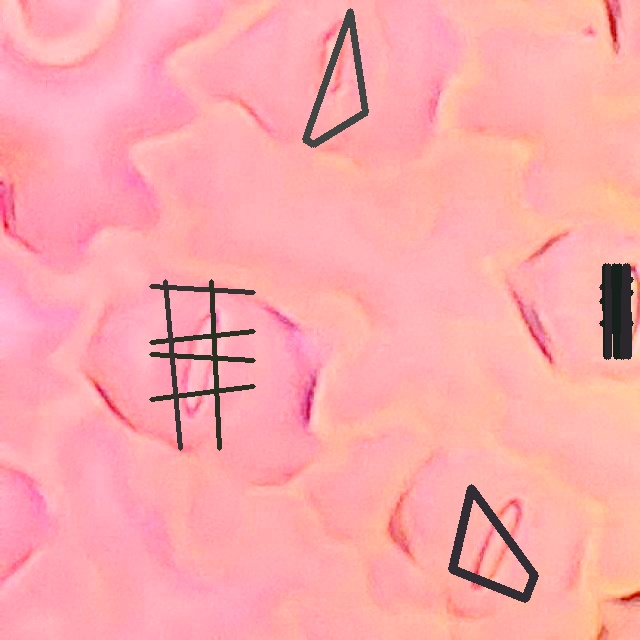open: (149, 279, 255, 450), (449, 484, 537, 601), (302, 8, 368, 147), (599, 264, 633, 358)
